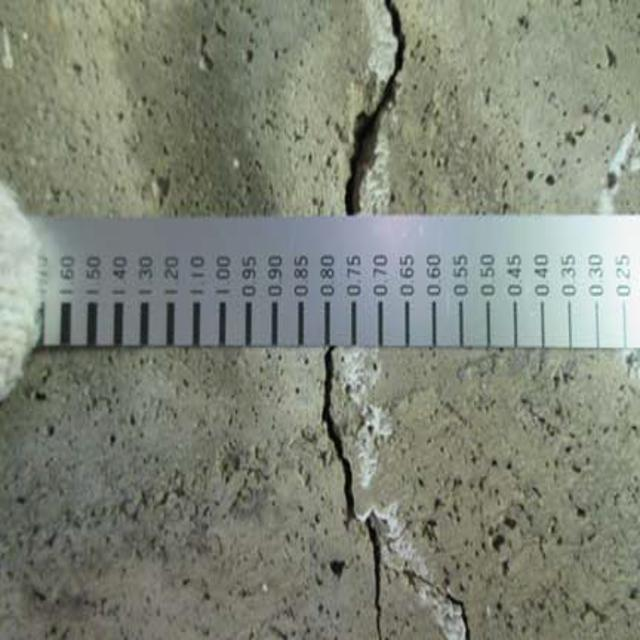crack: (302, 354, 472, 637), (320, 0, 433, 220)
